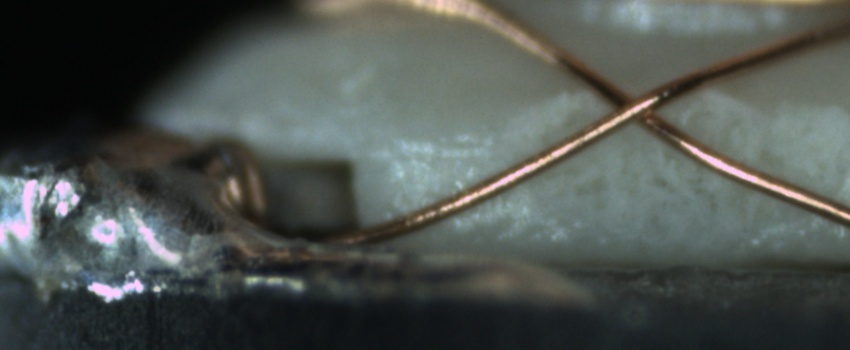CL: (586, 70, 680, 140)
DL: (378, 118, 514, 182)
TE: (194, 130, 274, 232)
